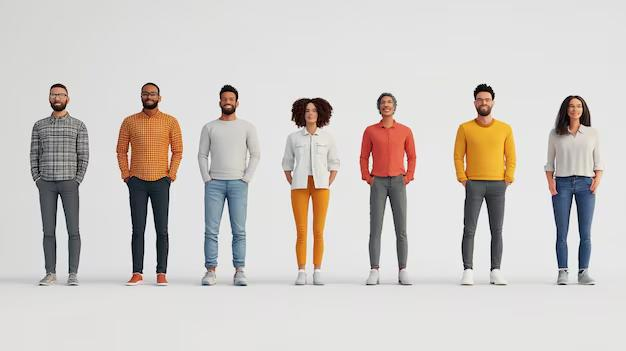jacket: (282, 126, 341, 192)
long sleeve shirt: (115, 108, 184, 181), (29, 111, 90, 184), (358, 118, 416, 184), (544, 124, 605, 180)
sweater: (452, 117, 517, 185), (196, 117, 262, 183)
trousers: (551, 174, 598, 275), (36, 178, 84, 276), (125, 175, 171, 275), (202, 176, 249, 270), (461, 177, 507, 271), (367, 174, 410, 271), (291, 174, 331, 269)
